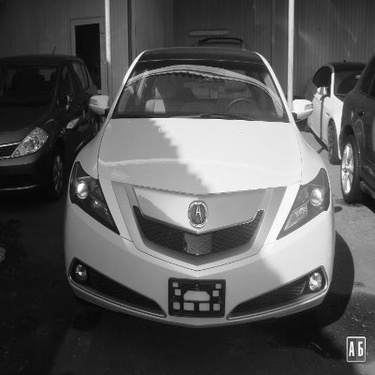car: (51, 25, 345, 325), (4, 43, 106, 199), (302, 50, 370, 170), (336, 57, 373, 221)
